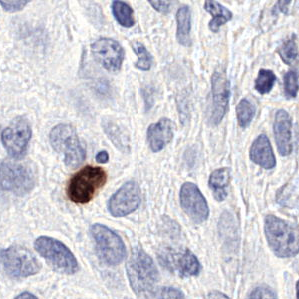Lymphocyte: (66, 164, 106, 203)
